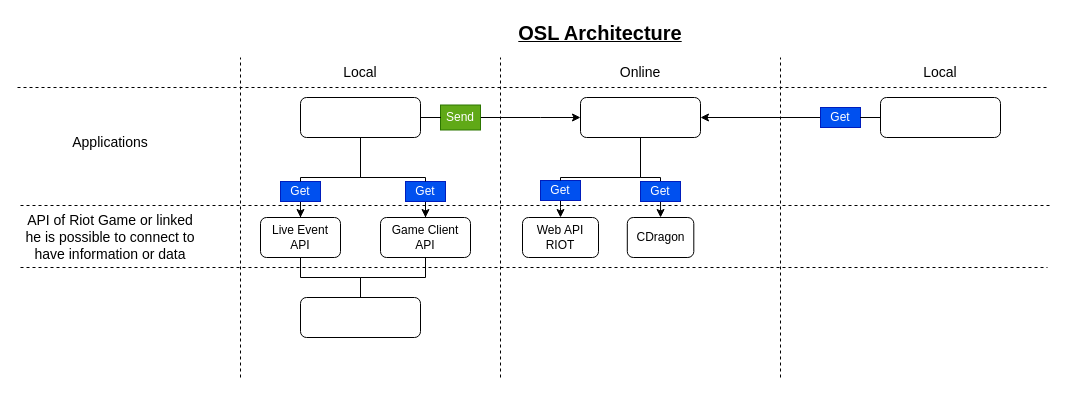
This 1069x396 diagram has some shape labels left out. Each missing label, with the centre of its shape:
"Client League Of Legend" goes at (x=360, y=317).
"OBS" goes at (x=940, y=117).
"OSL_Client" goes at (x=360, y=117).
"OSL_Server" goes at (x=640, y=117).
